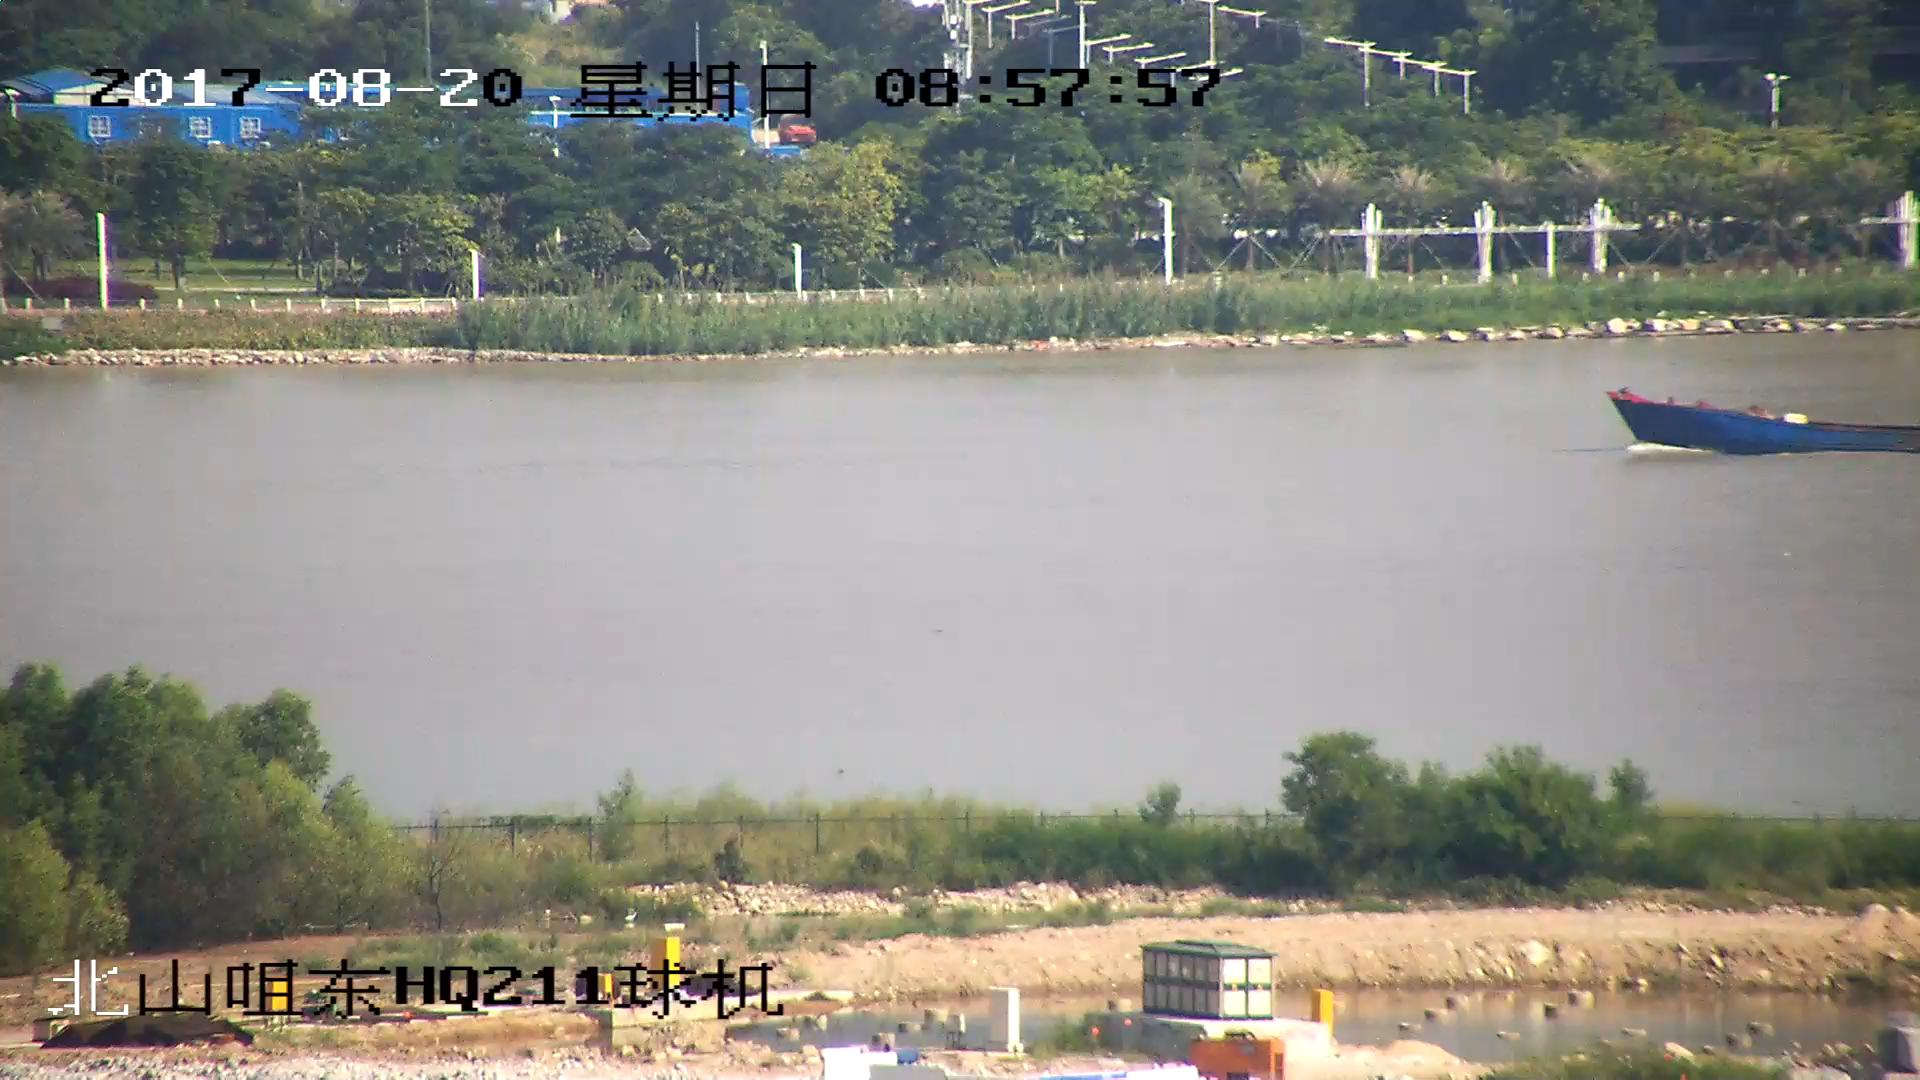fishing boat: (1610, 389, 1920, 454)
